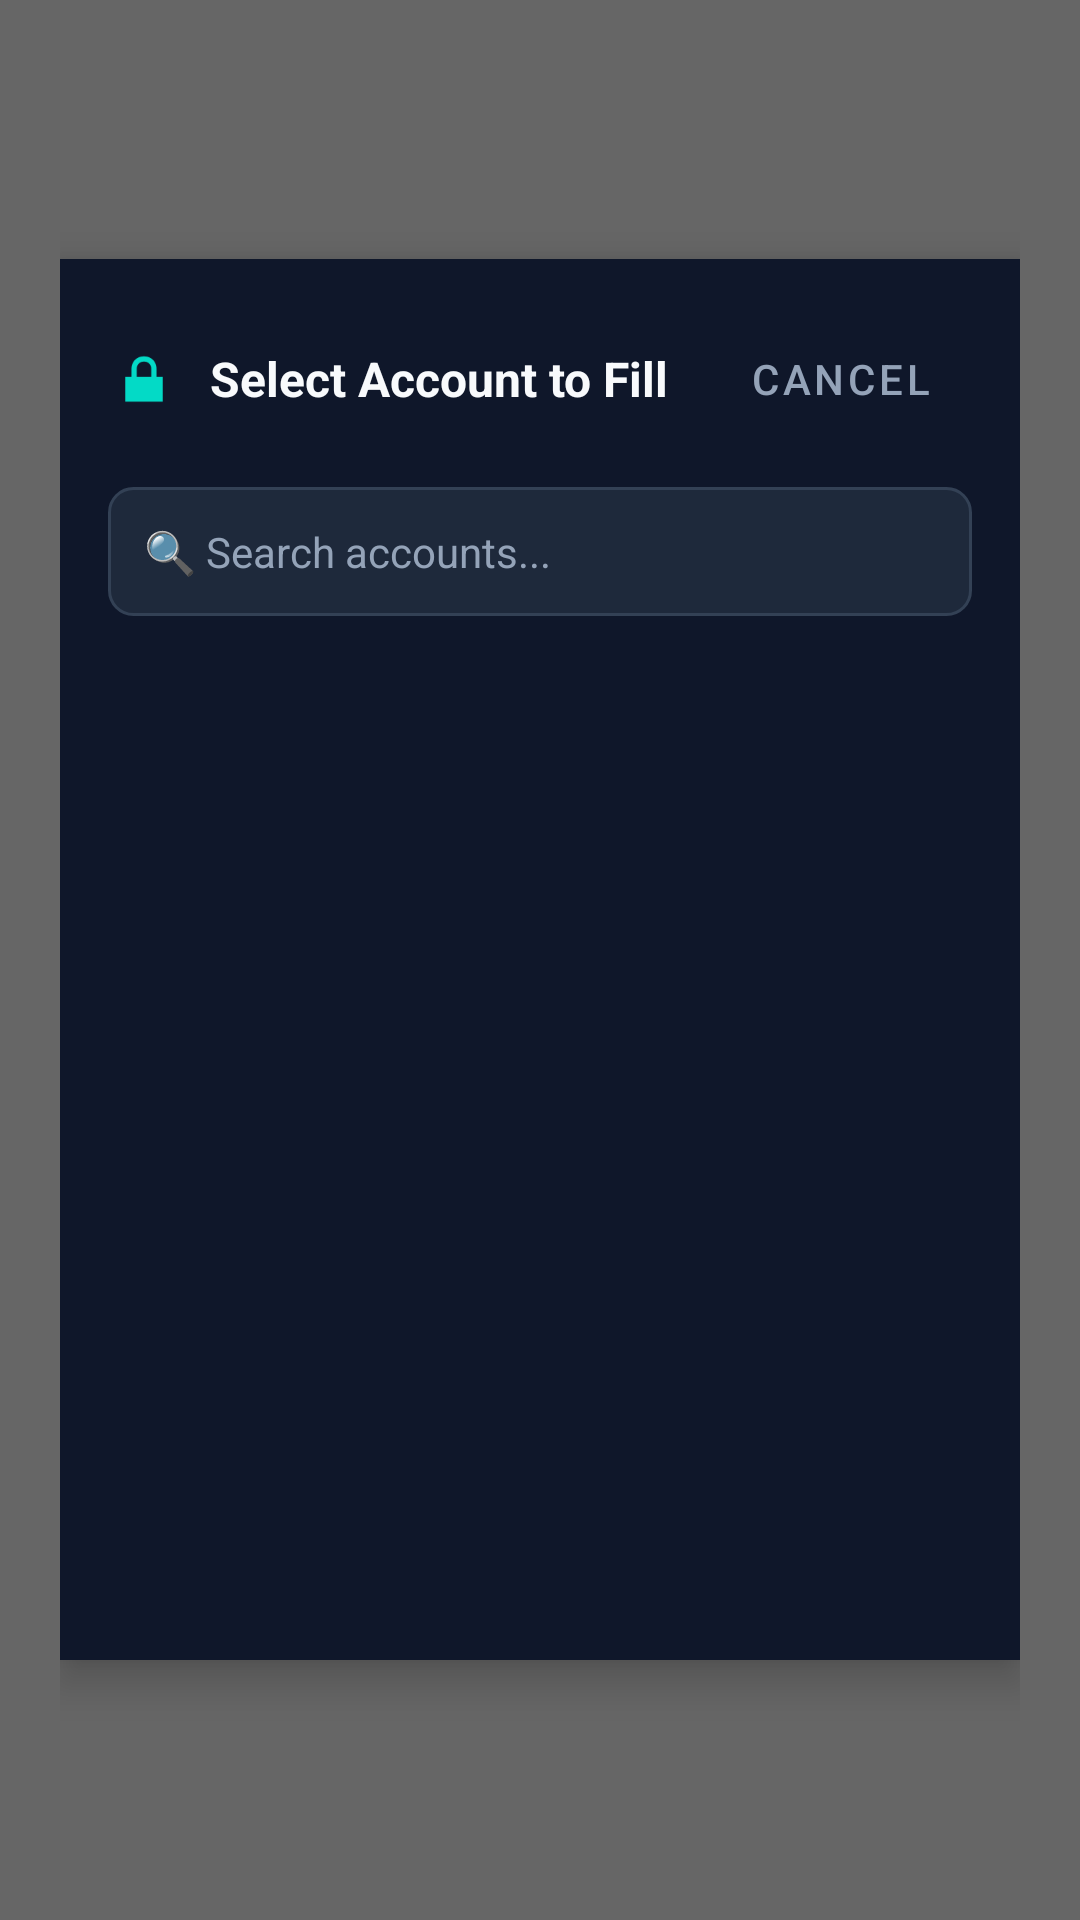

Screen size 1080 × 1920. Icon name, then its center in pixels as [x,y]:
lock: [144,379]
